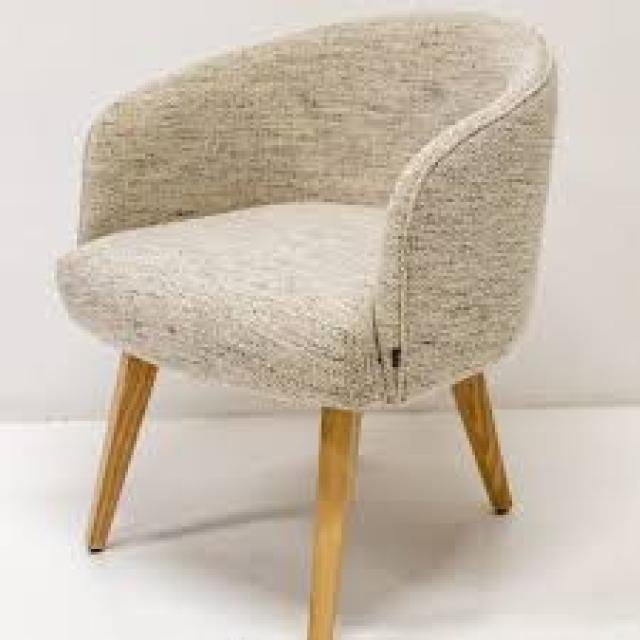chair: (22, 4, 602, 640)
